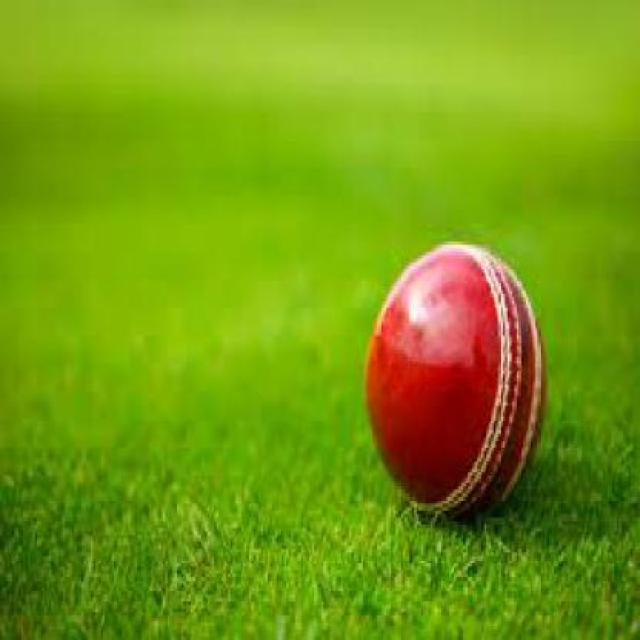ball: (344, 190, 598, 522)
